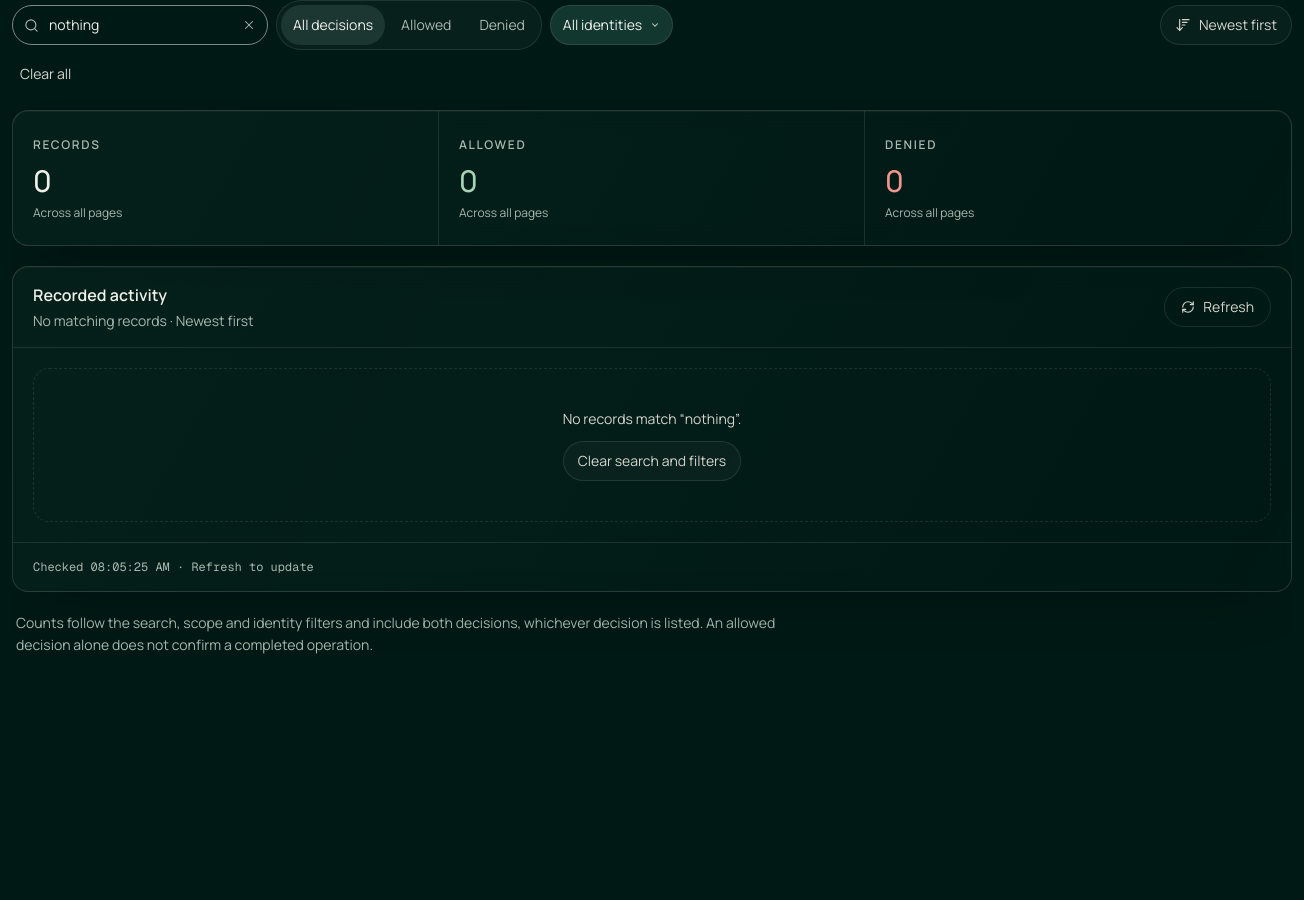
access log search and order › offers the way back when a search matches nothing
Expected: the text "No records match “nothing”." is shown, [563,408,741,428]
Click the button "Clear search and filters" at (652, 460), box [563,440,741,480]
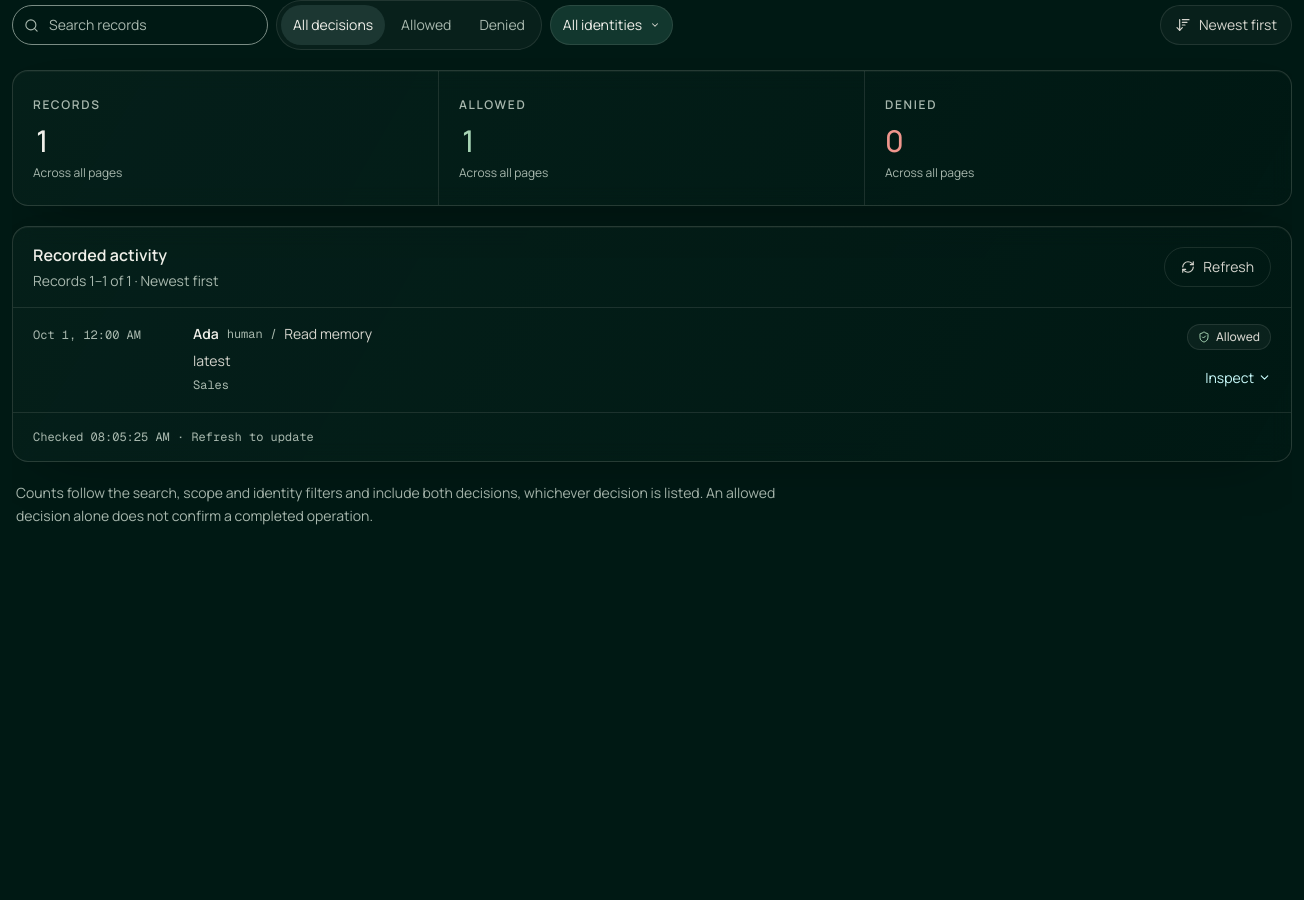
Now the button with aria-label "Inspect event latest" is shown, box [1205,362,1271,394]
